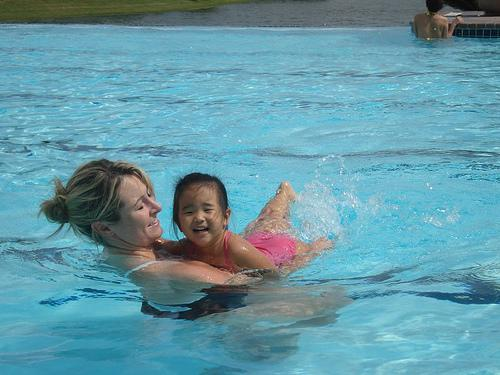swimmer: (33, 157, 245, 304), (171, 173, 327, 273), (411, 2, 463, 45)
